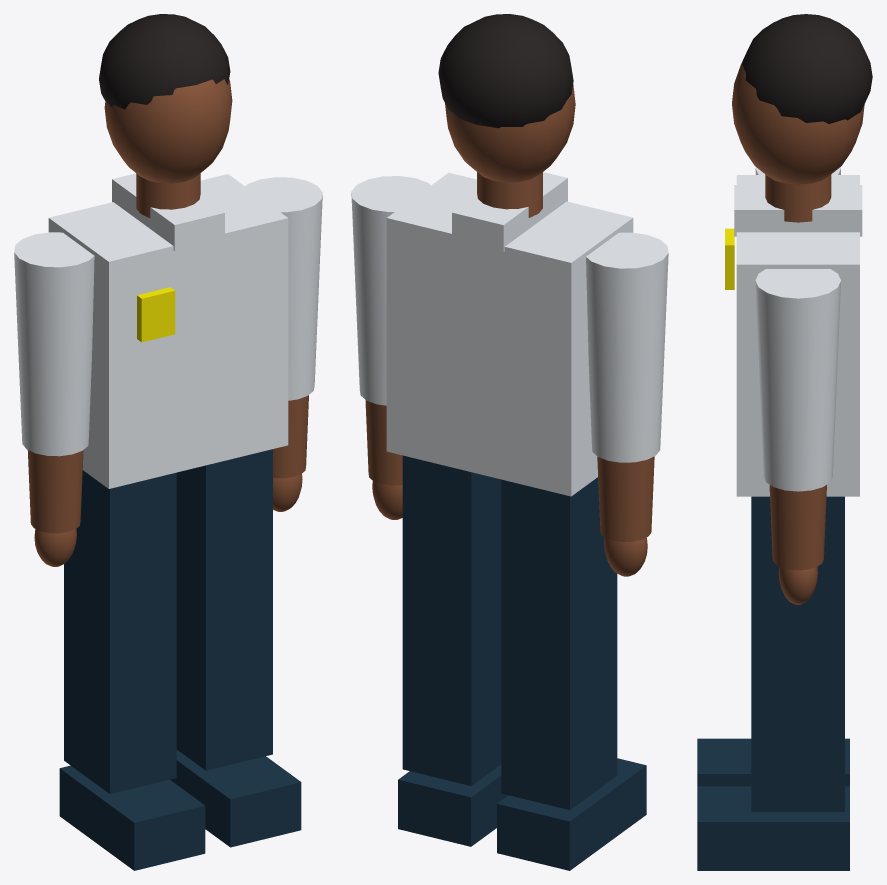
File: student.glb
The picture shows the model from 3 angles, left to right: view 1: azimuth 30°, elevation 25°; view 2: azimuth 150°, elevation 25°; view 3: azimuth 270°, elevation 25°; orthographic projection. The views are drawn at different scales.
Parts seen in each view (by area): view 1: Trousers (×2), Shirt, Sleeve (×2), Shoe (×2), Head, Hair, Forearm (×2), Collar, Hand (×2), Neck, Badge; view 2: Trousers (×2), Shirt, Sleeve (×2), Shoe (×2), Hair, Forearm (×2), Head, Collar, Hand (×2), Neck; view 3: Trousers, Sleeve, Shirt, Shoe (×2), Hair, Head, Collar, Forearm, Neck, Hand, Badge.
Boxes of the visible parts, x1,y1,x2,y2 form: Trousers (×2): (64,449,272,793); Shirt: (48,174,288,488); Sleeve (×2): (14,177,322,456); Shoe (×2): (59,749,301,870); Head: (104,79,232,183); Hair: (99,14,230,109); Forearm (×2): (27,395,308,533); Collar: (112,173,224,250); Hand (×2): (34,474,302,566); Neck: (136,173,200,217); Badge: (137,287,175,342); Trousers (×2): (402,455,617,809); Shirt: (386,172,633,496); Sleeve (×2): (351,176,668,462); Shoe (×2): (398,758,646,870); Hair: (438,14,573,128); Forearm (×2): (365,400,654,541); Head: (445,84,575,182); Collar: (452,172,567,251); Hand (×2): (372,481,647,576); Neck: (477,172,542,217); Trousers: (751,496,844,811); Sleeve: (755,269,840,491); Shirt: (736,175,859,496); Shoe (×2): (697,738,849,870); Hair: (741,14,872,123); Head: (732,63,864,184); Collar: (734,185,862,236); Forearm: (769,485,826,570); Neck: (765,174,831,222); Hand: (778,567,817,604); Badge: (725,228,734,289).
Bounding box in the file's own units: 0.5641 × 1.43 × 0.2813.
